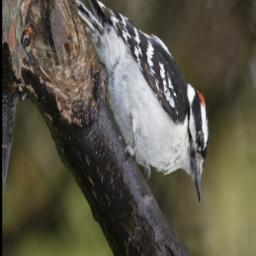Woodpecker: (68, 0, 210, 205)
